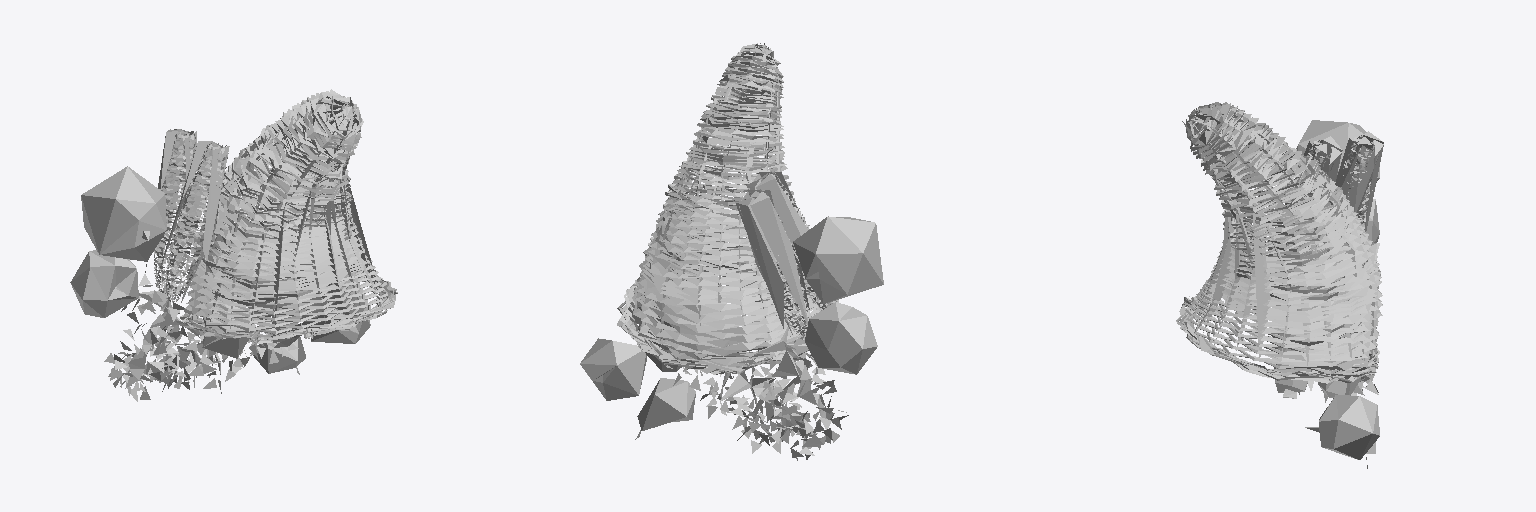
File: basket.obj
3 renders of one model, left to right at view 1: azimuth 30°, elevation 25°; view 2: azimuth 150°, elevation 25°; view 3: azimuth 270°, elevation 25°, orthographic.
Parts seen in each view (by area): view 1: 11545_Cornucopia_Basket_with_Food_v2_L1; view 2: 11545_Cornucopia_Basket_with_Food_v2_L1; view 3: 11545_Cornucopia_Basket_with_Food_v2_L1.
Part boxes in pixels (x1,y1,x2,y2): 11545_Cornucopia_Basket_with_Food_v2_L1: (70,89,397,401); 11545_Cornucopia_Basket_with_Food_v2_L1: (580,43,883,460); 11545_Cornucopia_Basket_with_Food_v2_L1: (1176,102,1383,468).
Bounding box in the file's own units: 1.09 × 1.28 × 0.6905.